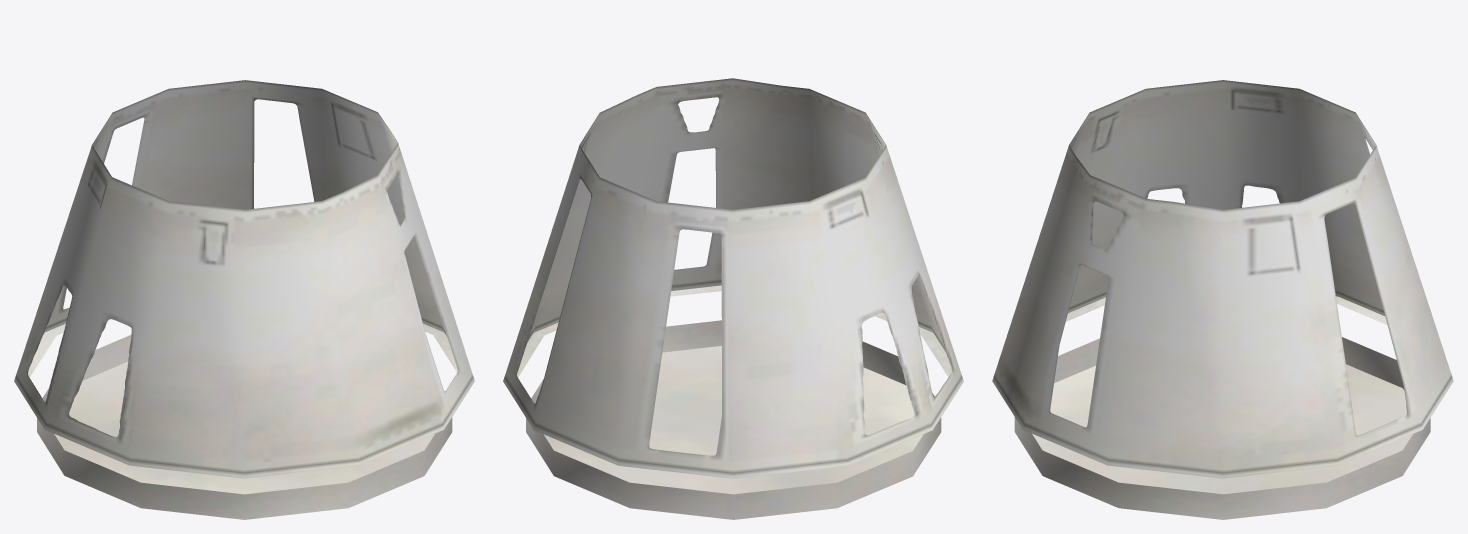
File: poi_r4_head_l1.fbx
3 views of the same model, side by side, from view 1: azimuth 30°, elevation 25°; view 2: azimuth 150°, elevation 25°; view 3: azimuth 270°, elevation 25° (orthographic).
Parts seen in each view (by area): view 1: mesh_node; view 2: mesh_node; view 3: mesh_node.
Part boxes in pixels (box(x1,y1,x2,y2)): mesh_node: box(14, 80, 474, 519); mesh_node: box(503, 78, 963, 519); mesh_node: box(992, 80, 1453, 519).
Size of the model in its own units: 0.432 by 0.3762 by 0.432.
1 material, 1 textured.
